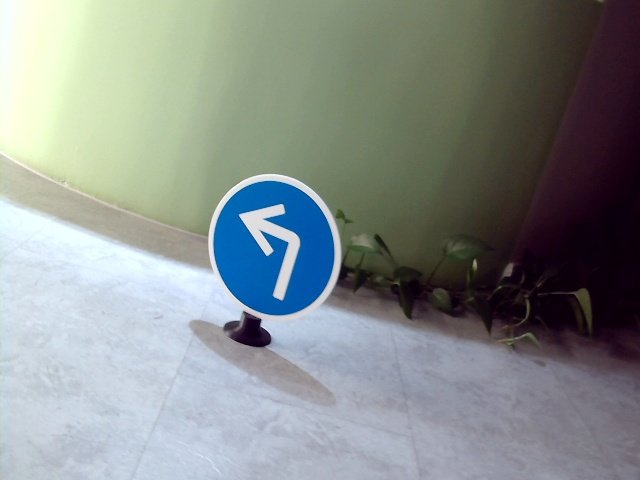turn_left: (234, 199, 313, 302)
